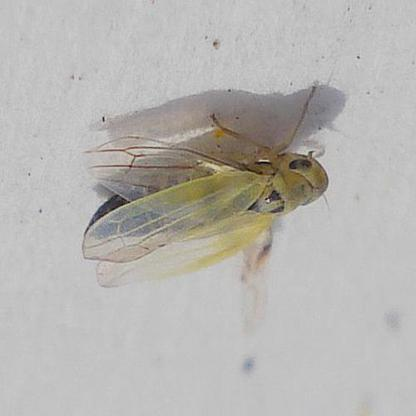green-leafhopper: (86, 136, 326, 291)
